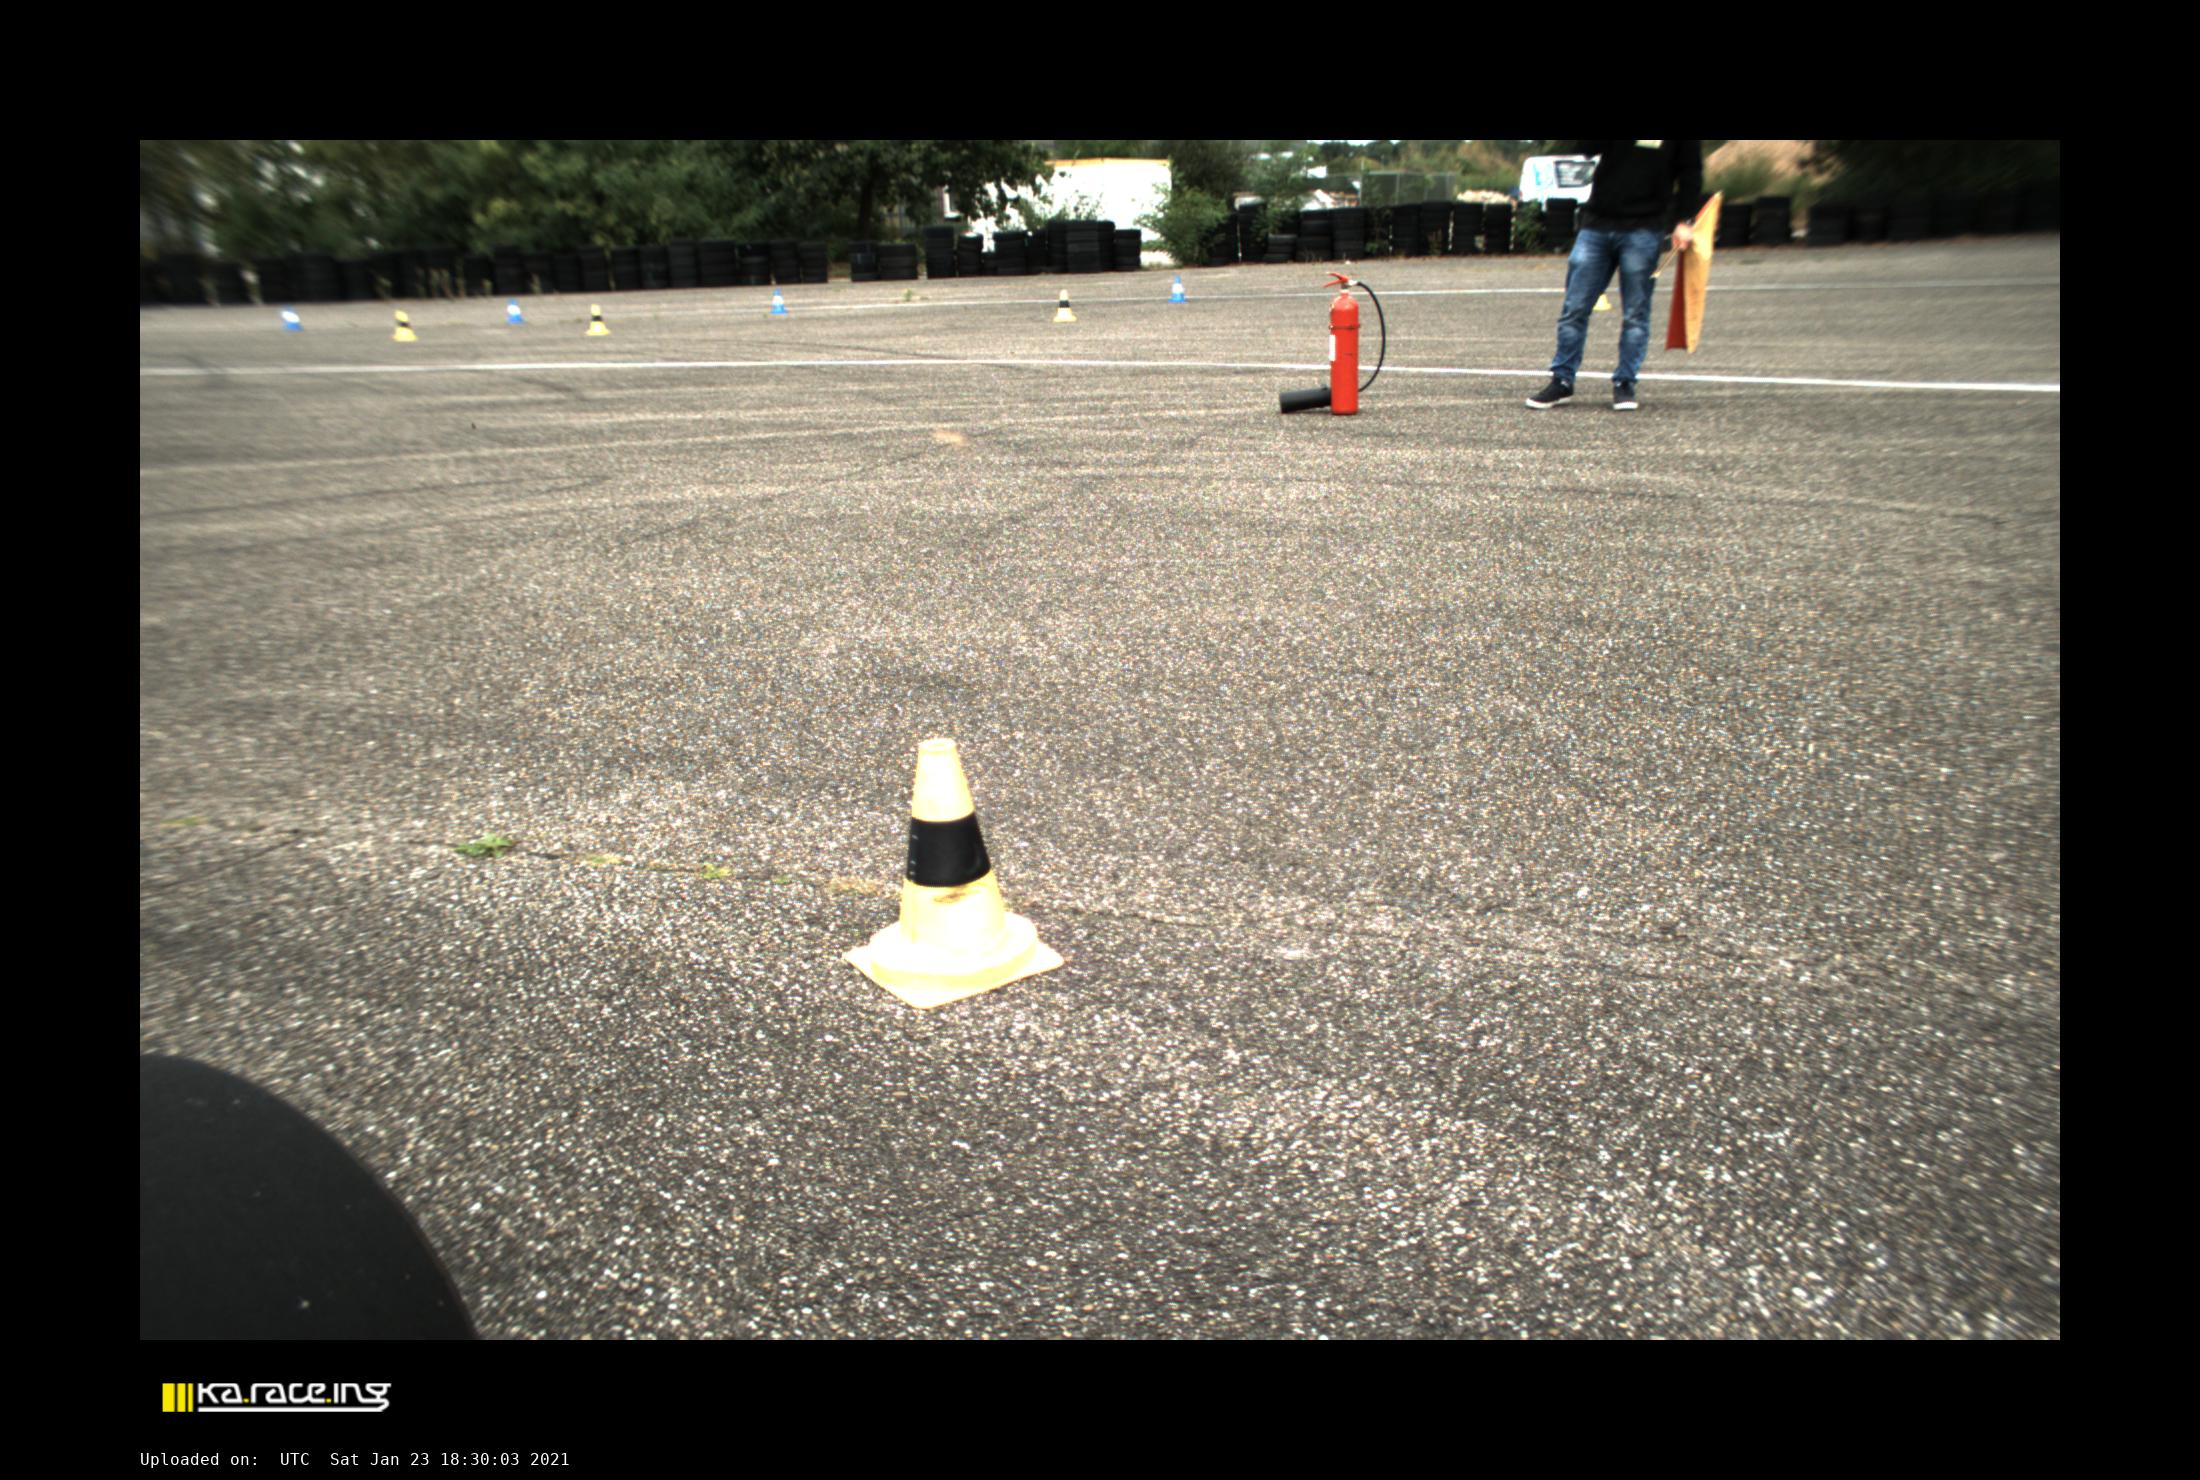blue_cone: (281, 306, 304, 330), (1168, 277, 1188, 302), (770, 291, 788, 314), (509, 301, 524, 324)
yellow_cone: (846, 738, 1064, 1008), (1054, 289, 1077, 322), (586, 304, 609, 335), (395, 311, 416, 340), (1592, 291, 1612, 311)
